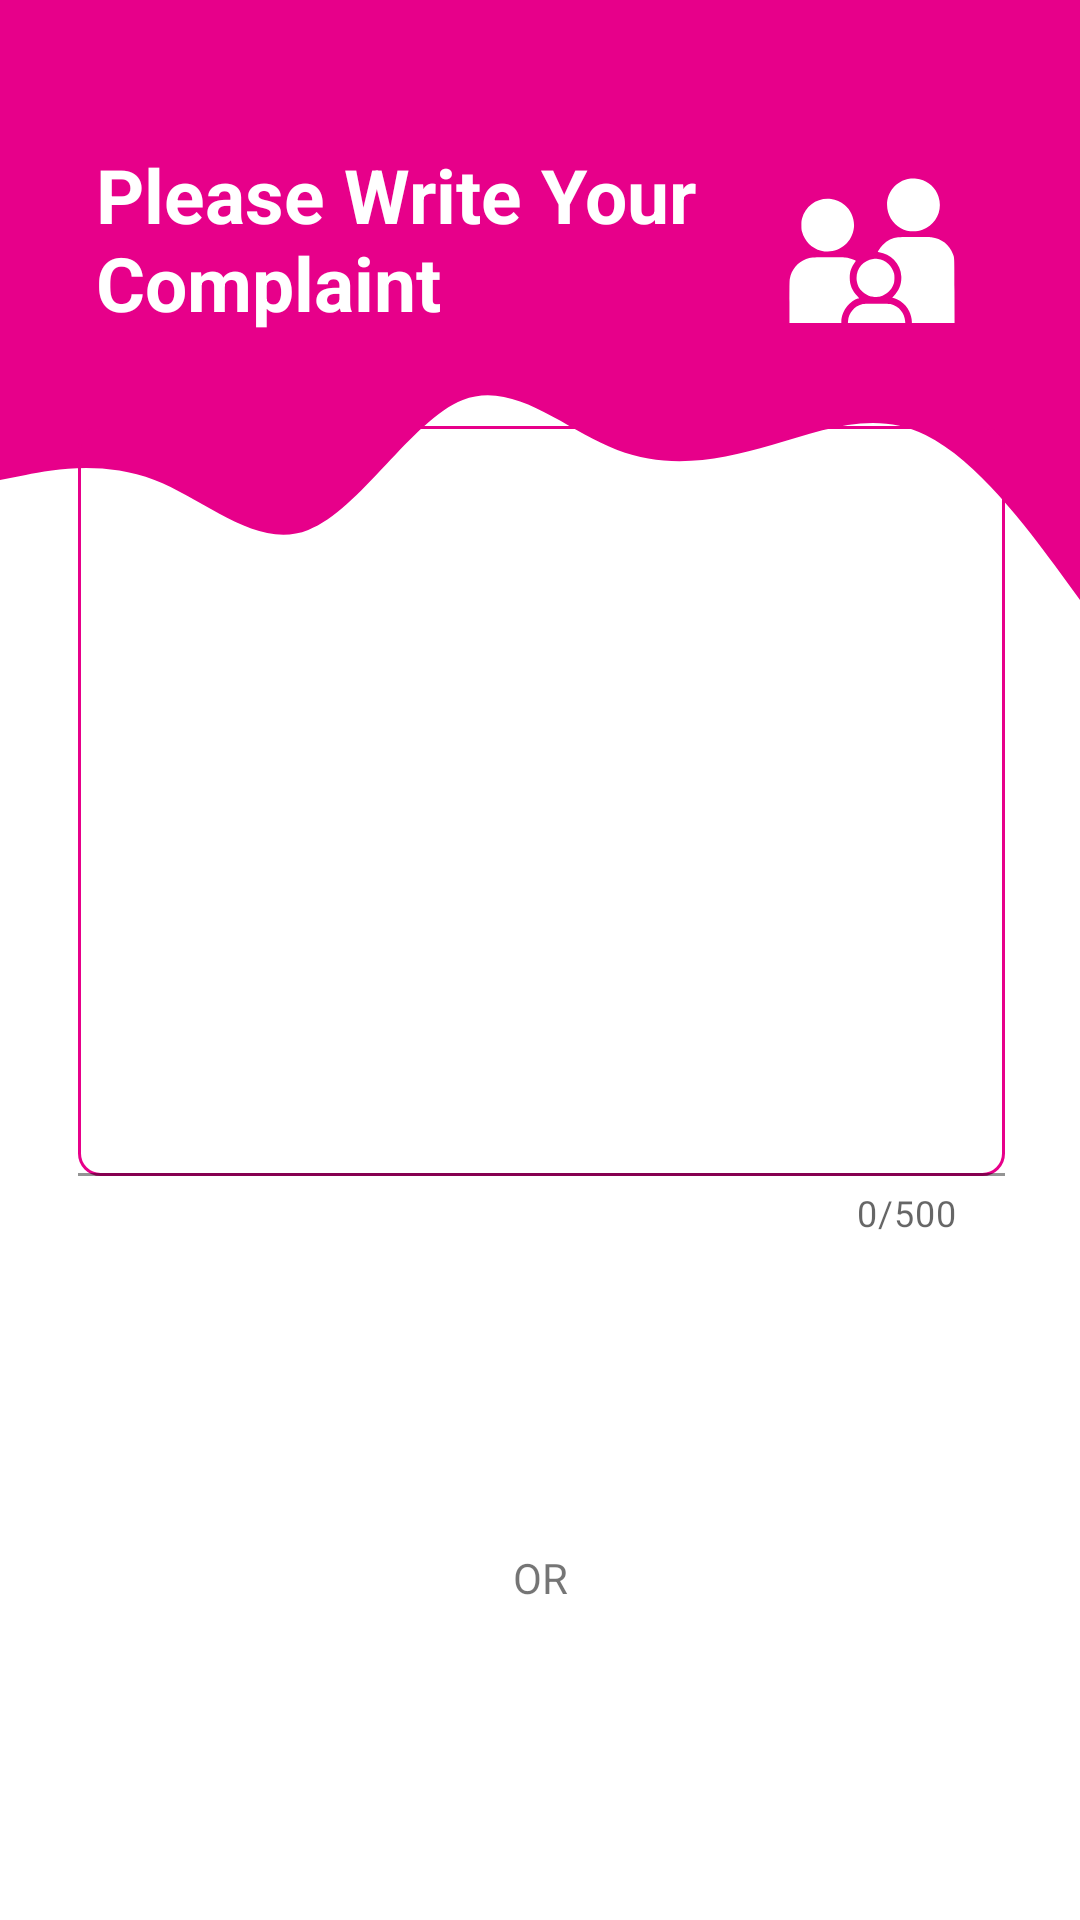

Where icons sit on this 1080x1920 app screen, as (x1, y1, x2, y2):
vect parent login signup: (789, 178, 955, 323)
